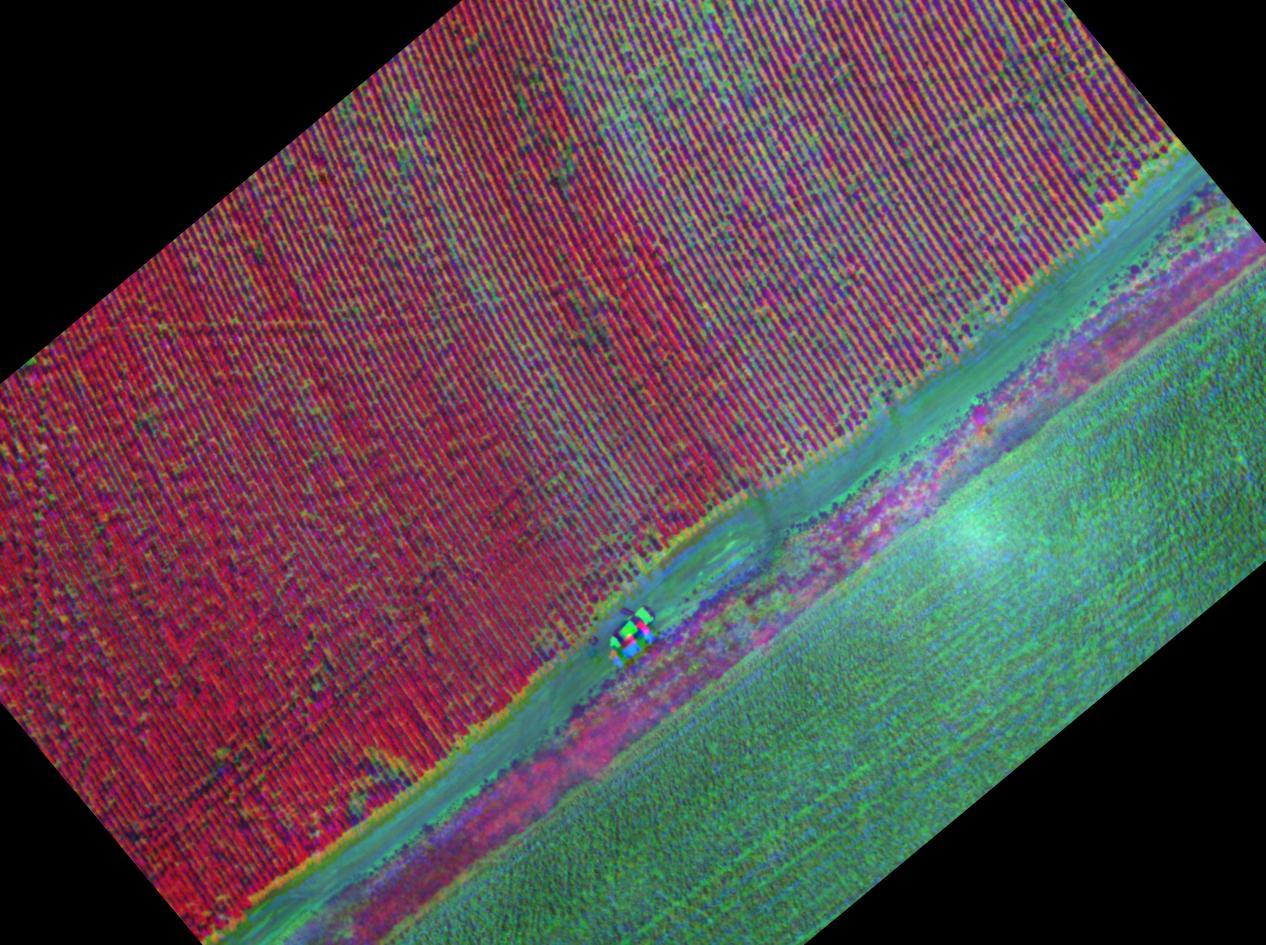dc: (578, 0, 687, 112), (698, 15, 806, 128), (338, 95, 460, 183), (936, 255, 996, 323)
